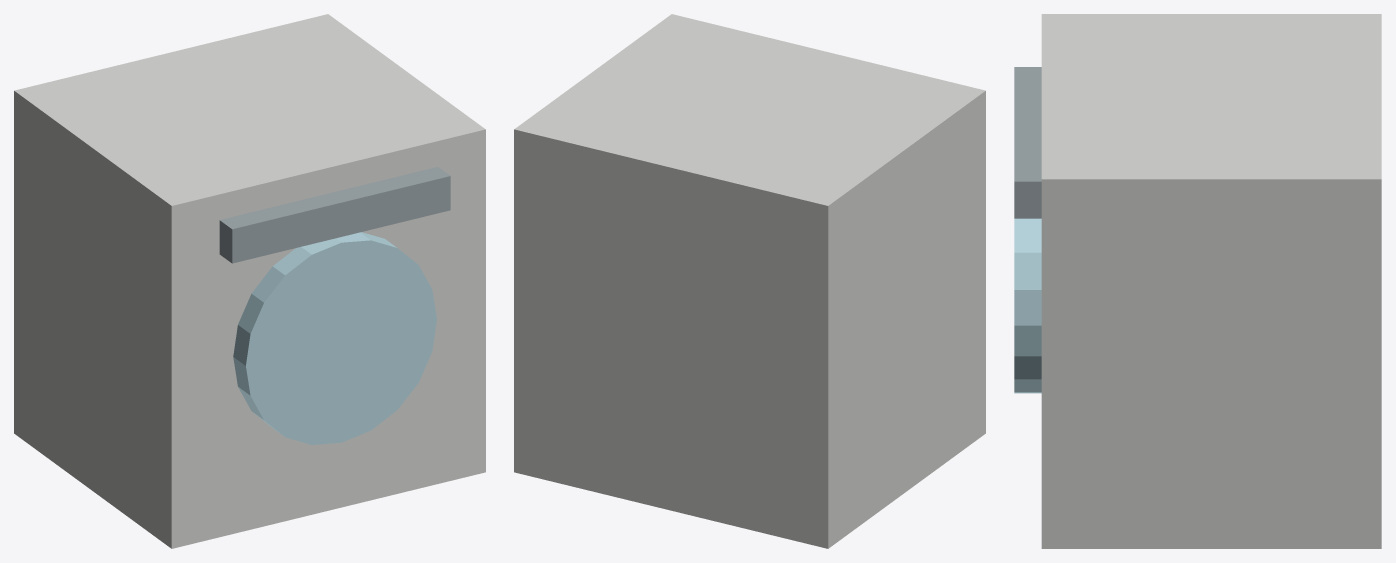
File: laundry_washer.glb
3 views of the same model, side by side, from view 1: azimuth 30°, elevation 25°; view 2: azimuth 150°, elevation 25°; view 3: azimuth 270°, elevation 25° (orthographic). The views are drawn at different scales.
Visible parts, largest first — view 1: part_00, part_01, part_02; view 2: part_00; view 3: part_00, part_01, part_02.
Part boxes in pixels (box(x1,y1,x2,y2)): part_00: box(14, 14, 485, 548); part_01: box(233, 232, 436, 444); part_02: box(219, 167, 450, 263); part_00: box(514, 14, 985, 548); part_00: box(1041, 14, 1381, 548); part_01: box(1014, 218, 1041, 393); part_02: box(1014, 67, 1041, 218).
Bounding box in the file's own units: 1.15 × 1.2 × 1.08.
